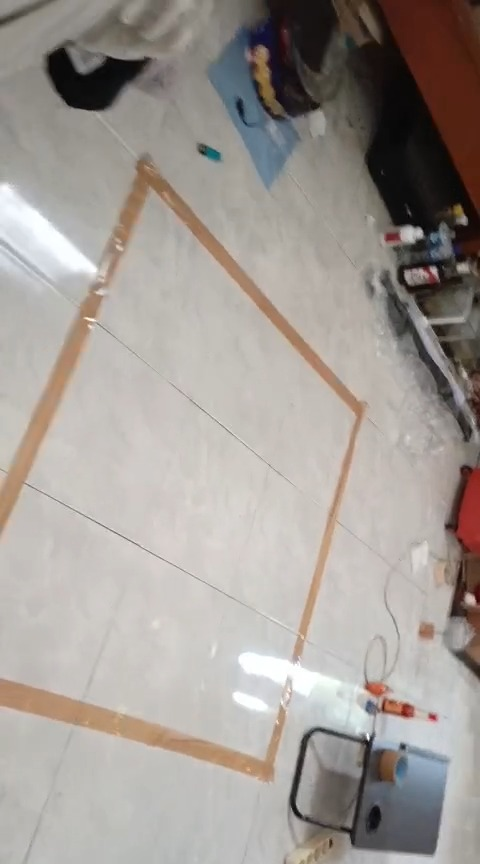floor marking: (0, 158, 364, 662), (1, 679, 292, 781)
